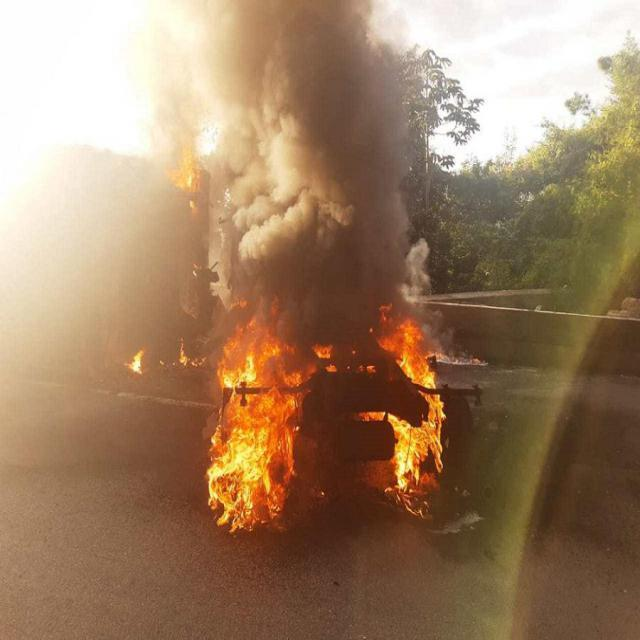Fire: (206, 315, 302, 531), (368, 304, 449, 520), (175, 146, 200, 188), (310, 343, 342, 372), (120, 346, 146, 373)
